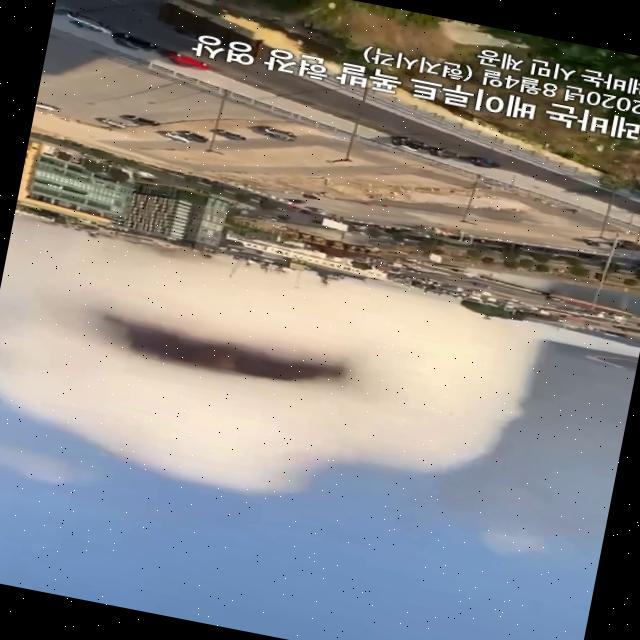explosion: (0, 219, 544, 556)
